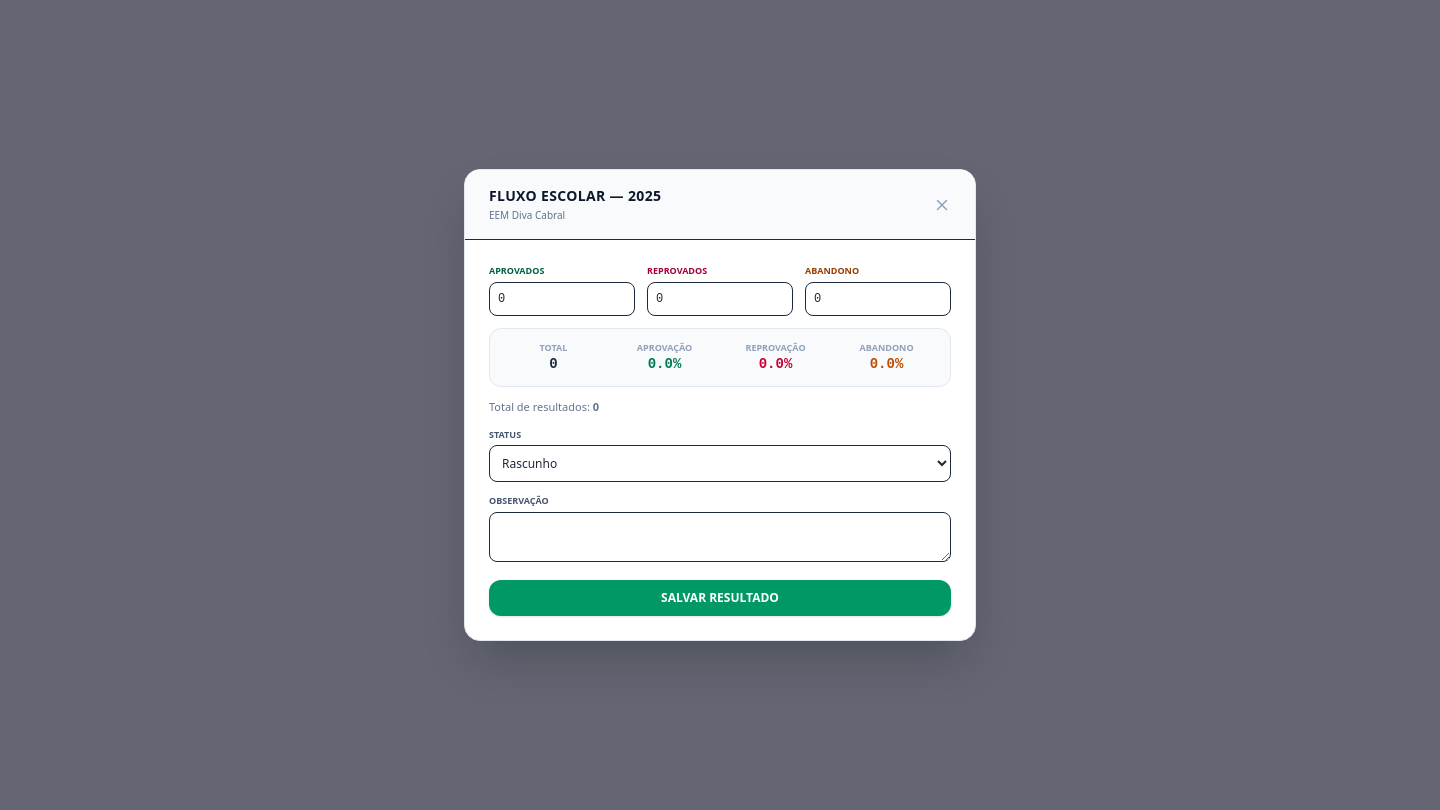
Test case: SchoolFlowResultModal › confirmar total zero é bloqueado — erro real do service permanece visível
Select "Confirmado" in the dropdown at [720, 464], box x1=489 y1=445 x2=951 y2=482
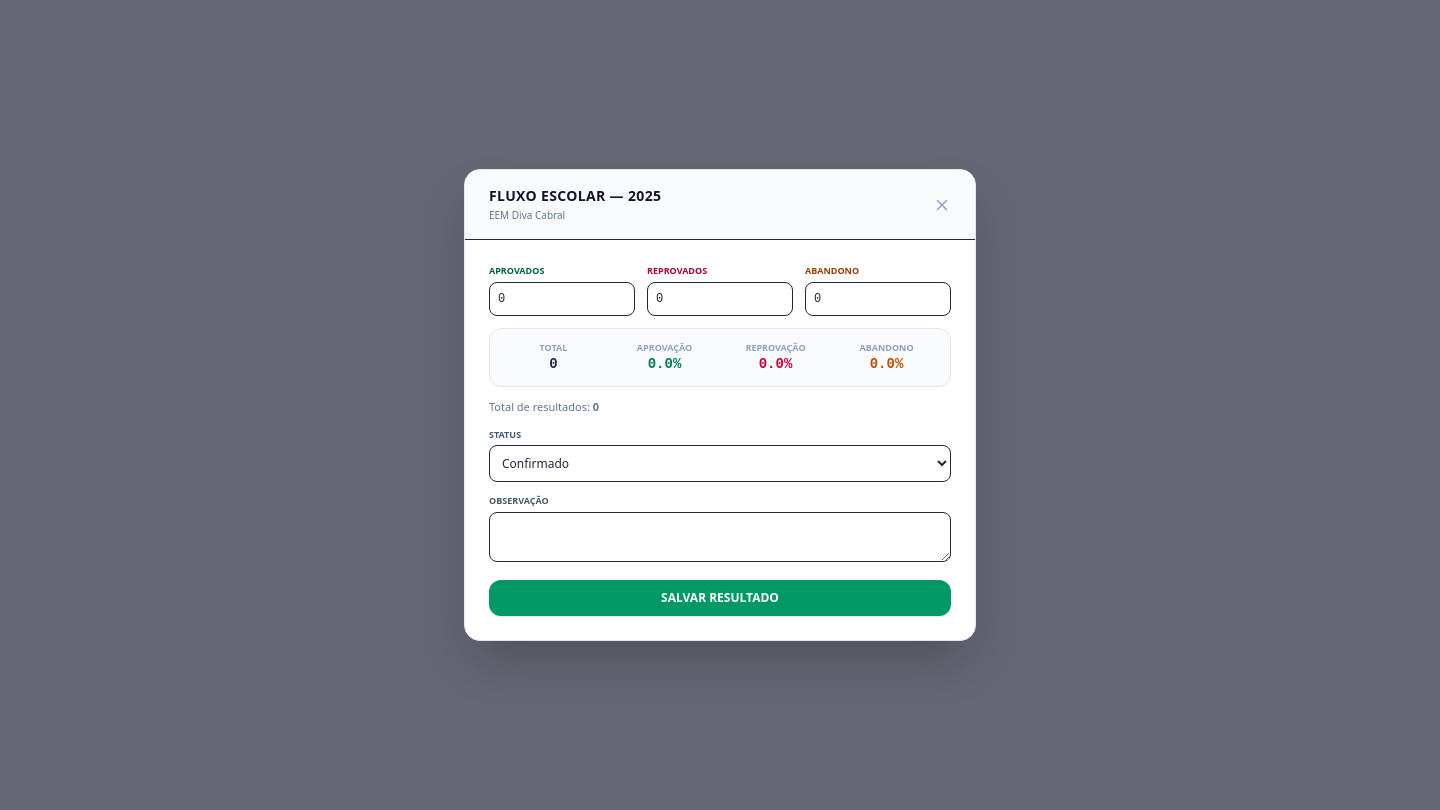
Click the button "Salvar resultado" at [720, 598], box x1=489 y1=580 x2=951 y2=616
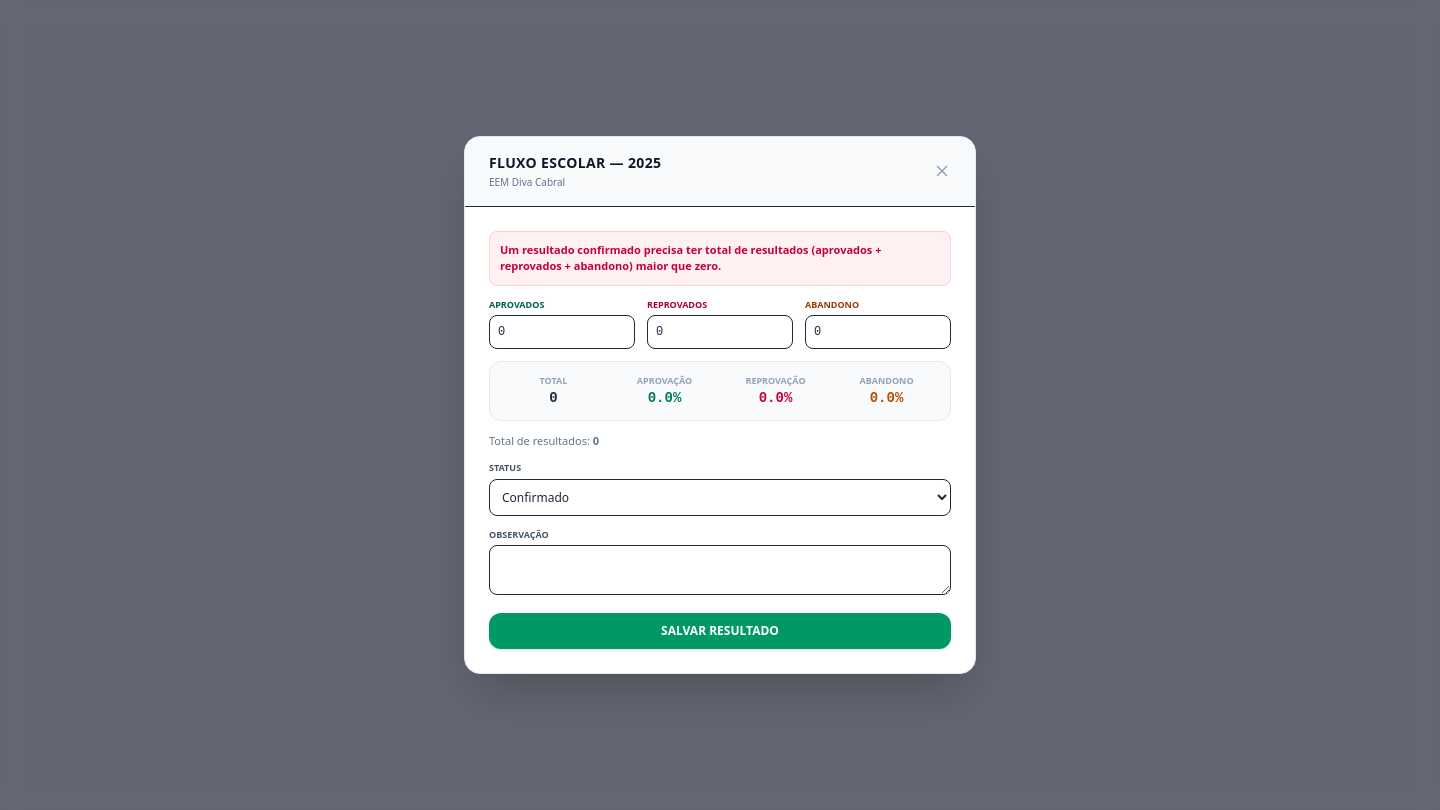
Now the text "Um resultado confirmado precisa ter total de resultados (aprovados + reprovados + abandono) maior que zero." is shown, box x1=500 y1=242 x2=882 y2=273
